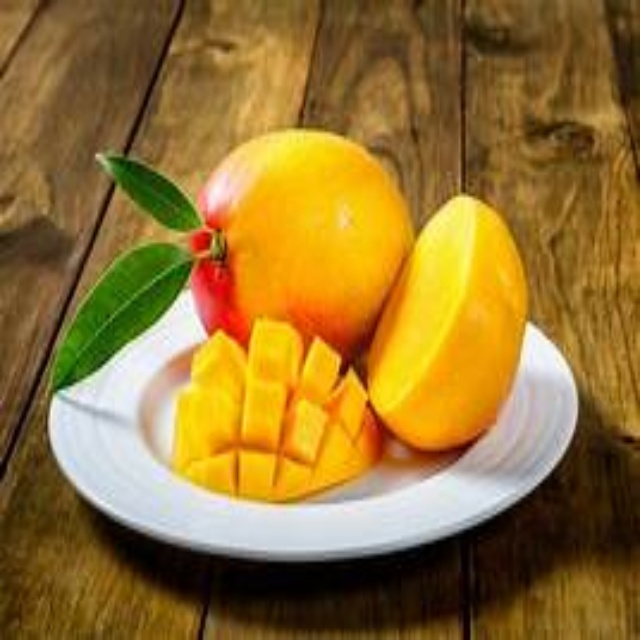mango: (180, 125, 412, 354), (364, 198, 525, 446)
